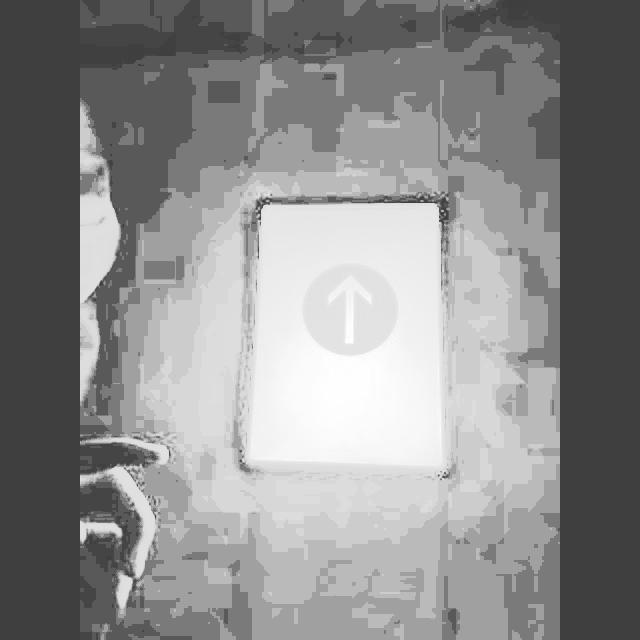GO FORWARD: (306, 266, 392, 352)
